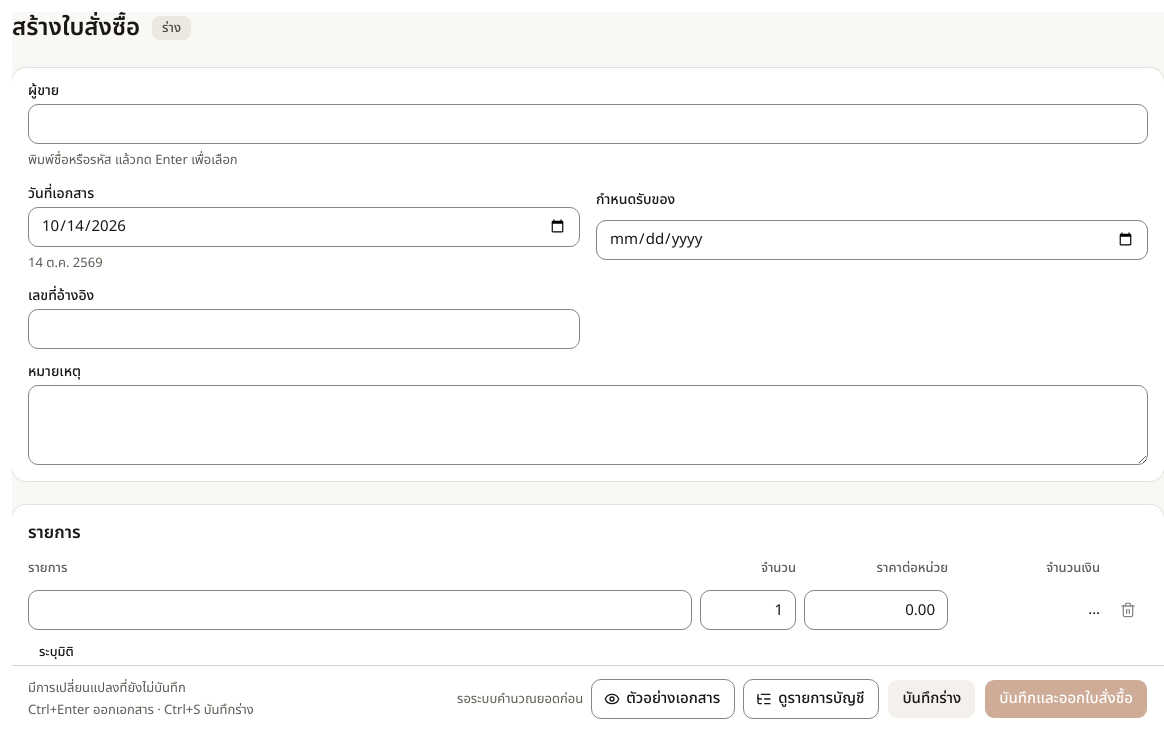
Test: DocEditor › a vendor document (PO) prefills the vendor usual item from PURCHASE items only
In the dropdown labelled "ผู้ขาย": (588, 124) [28,104,1148,144], type "ภูพาน"
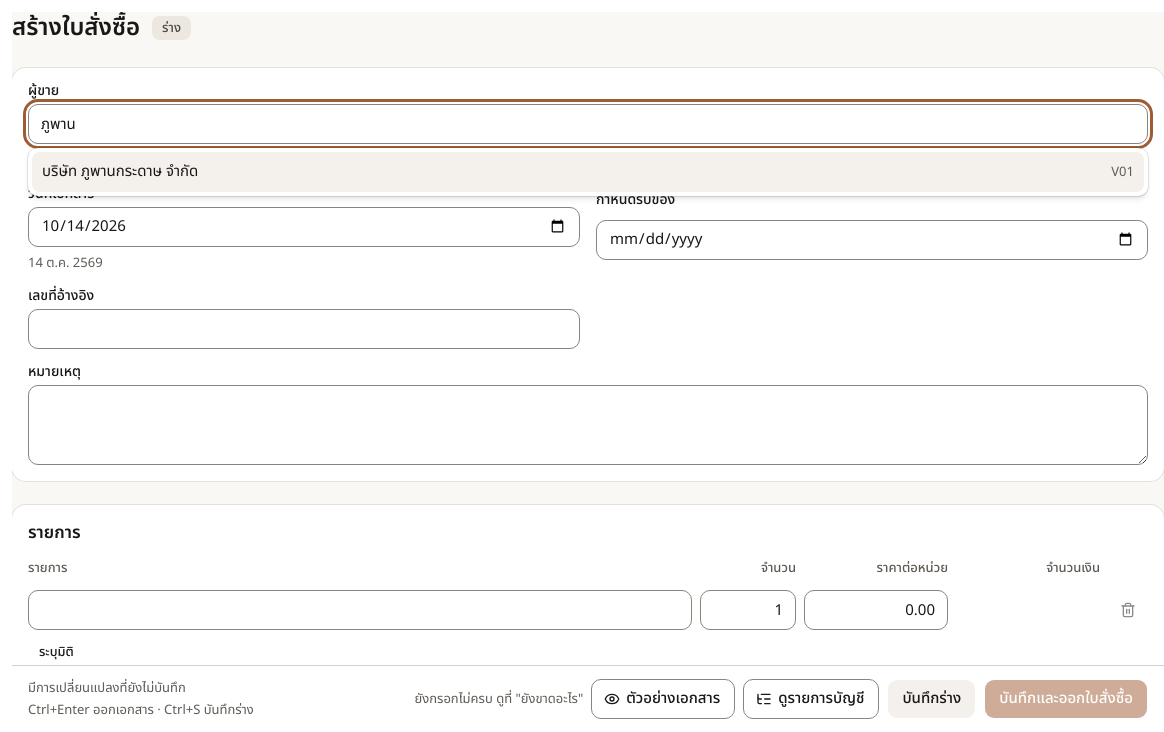
expect the option "บริษัท ภูพานกระดาษ จำกัด V01" is shown: met, box [32,152,1144,192]
Press Enter
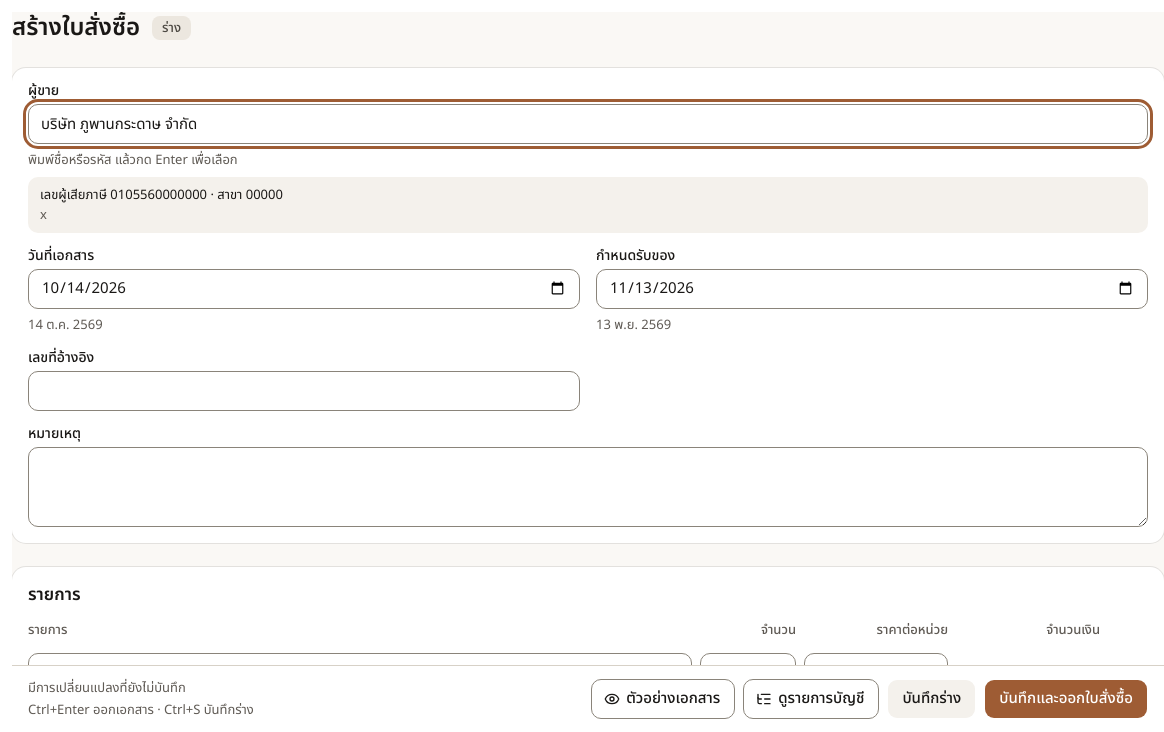
expect the dropdown showing "กระดาษ A4" is shown: met, box [28,653,692,693]
